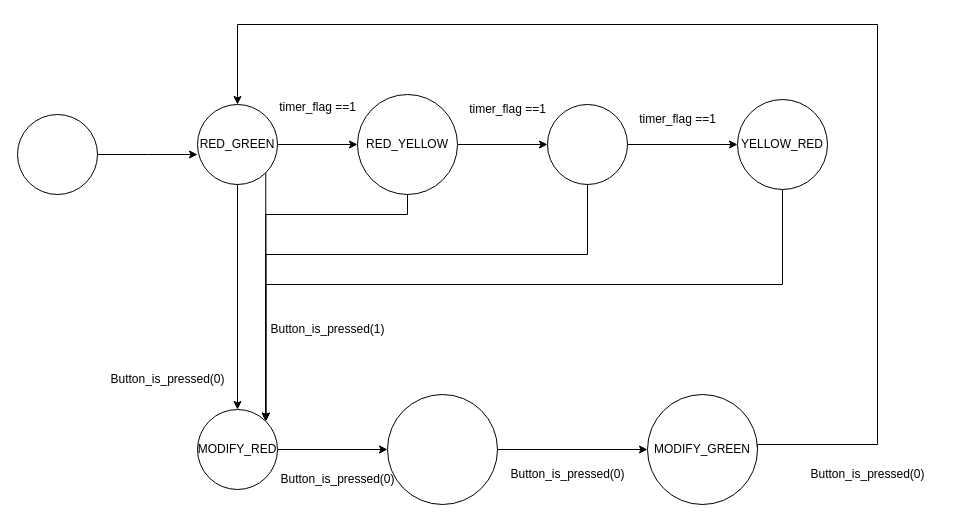
Some shapes in this 955 by 522 pixel diagram are drawn without their labels. The centre of each missing label's shape, as x and y in pixels:
"GREEN_RED" goes at [587,144].
"INIT" goes at [57,154].
"MODIFY_YELLOW" goes at [442,449].
